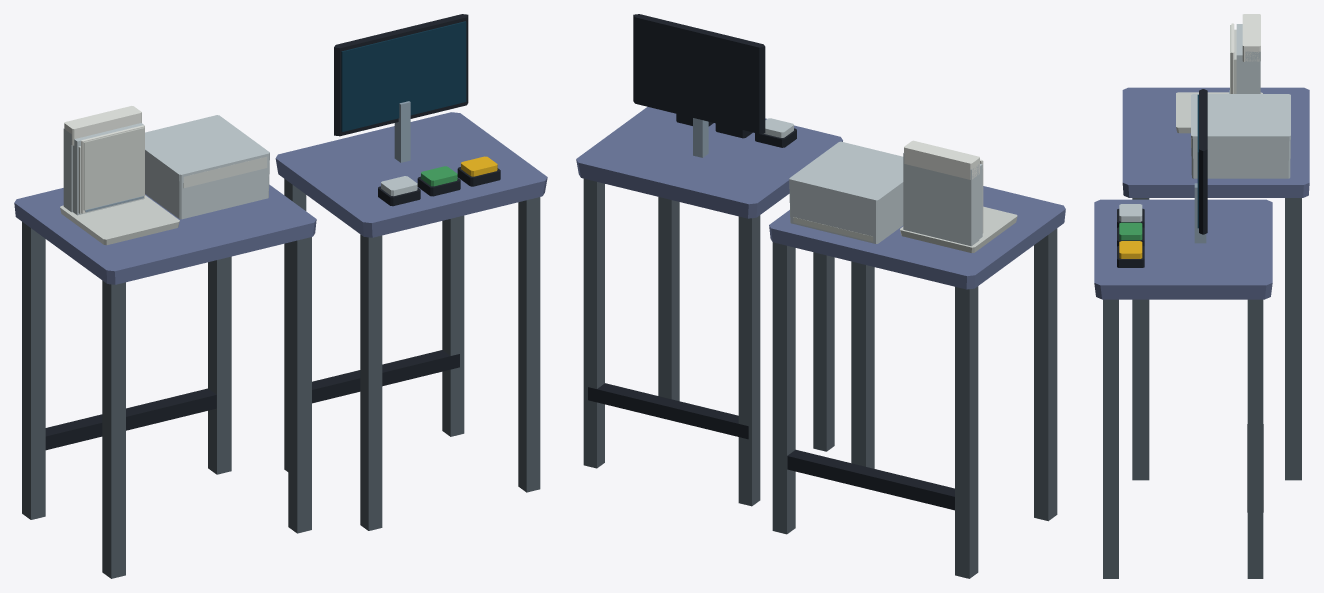
File: synthecon-rccs4d.glb
The picture shows the model from 3 angles, left to right: view 1: azimuth 30°, elevation 25°; view 2: azimuth 150°, elevation 25°; view 3: azimuth 270°, elevation 25°; orthographic projection. The views are drawn at different scales.
Visible parts, largest first — view 1: instrument_table, exhibit_desk, display, nominal_housing, base_shell, opaque_cover, select_notched, select_flat, select_rectangle; view 2: exhibit_desk, instrument_table, display, nominal_housing, base_shell, select_rectangle; view 3: exhibit_desk, instrument_table, nominal_housing, base_shell, display, select_flat, select_notched, select_rectangle, opaque_cover.
Part boxes in pixels (x1,y1,x2,y2): instrument_table: (14,184,316,578); exhibit_desk: (275,101,547,530); display: (334,14,468,136); nominal_housing: (145,115,269,219); base_shell: (60,106,179,245); opaque_cover: (81,125,144,213); select_notched: (417,166,460,196); select_flat: (457,156,500,186); select_rectangle: (378,176,420,206); exhibit_desk: (576,106,842,506); instrument_table: (769,186,1065,578); display: (633,14,765,133); nominal_housing: (789,141,903,243); base_shell: (900,140,1017,253); select_rectangle: (755,118,796,147); exhibit_desk: (1094,183,1272,578); instrument_table: (1122,87,1309,480); nominal_housing: (1191,94,1290,178); base_shell: (1176,14,1262,133); display: (1197,89,1207,234); select_flat: (1117,241,1144,267); select_notched: (1117,222,1144,246); select_rectangle: (1117,204,1144,227); opaque_cover: (1229,23,1234,93).
Size of the model in its own units: 1.13 by 1.12 by 0.5205.
